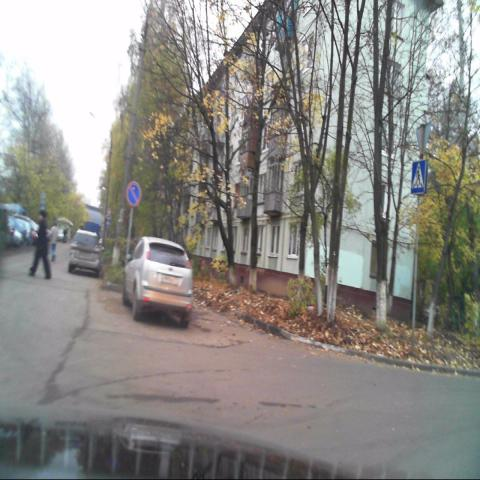3_28: (126, 180, 141, 208)
